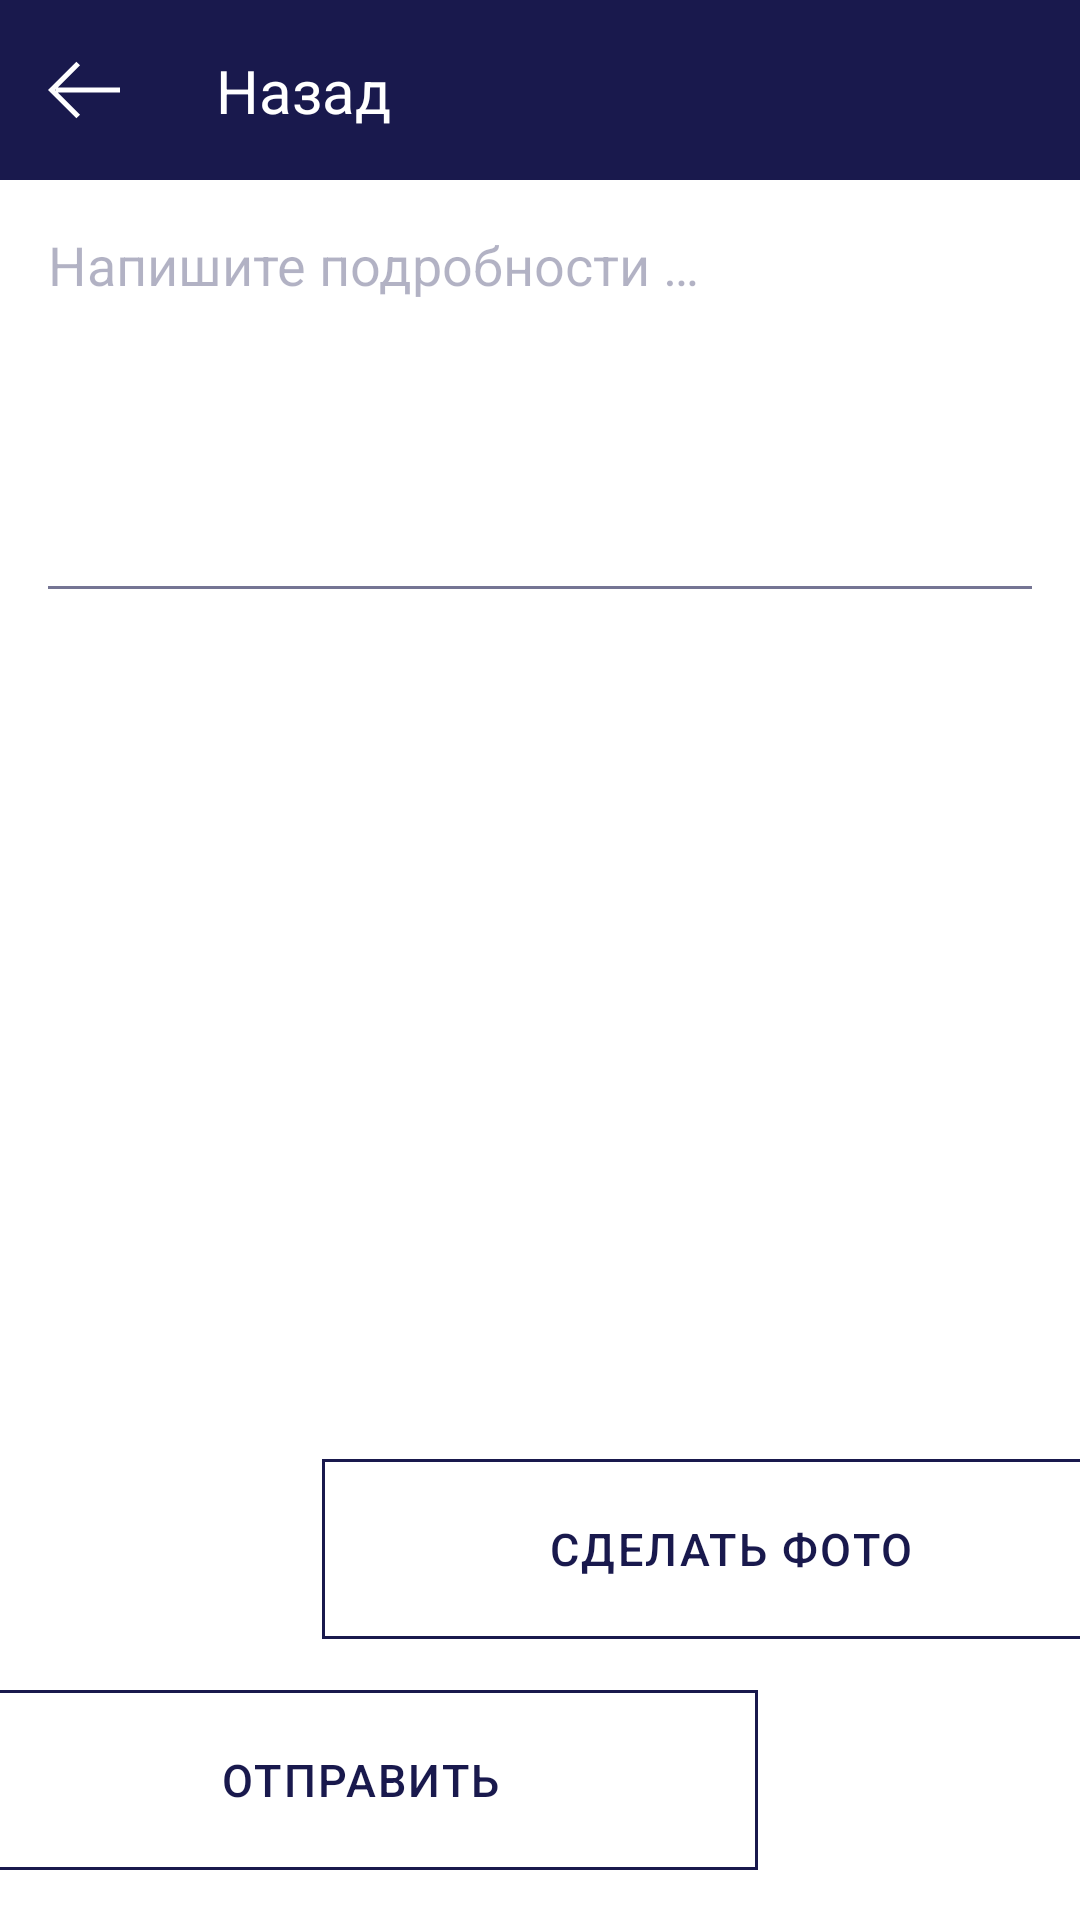

Screen size 1080px×1920px. Icon name, then its center in pixels as [x,y]:
back: [84,90]
